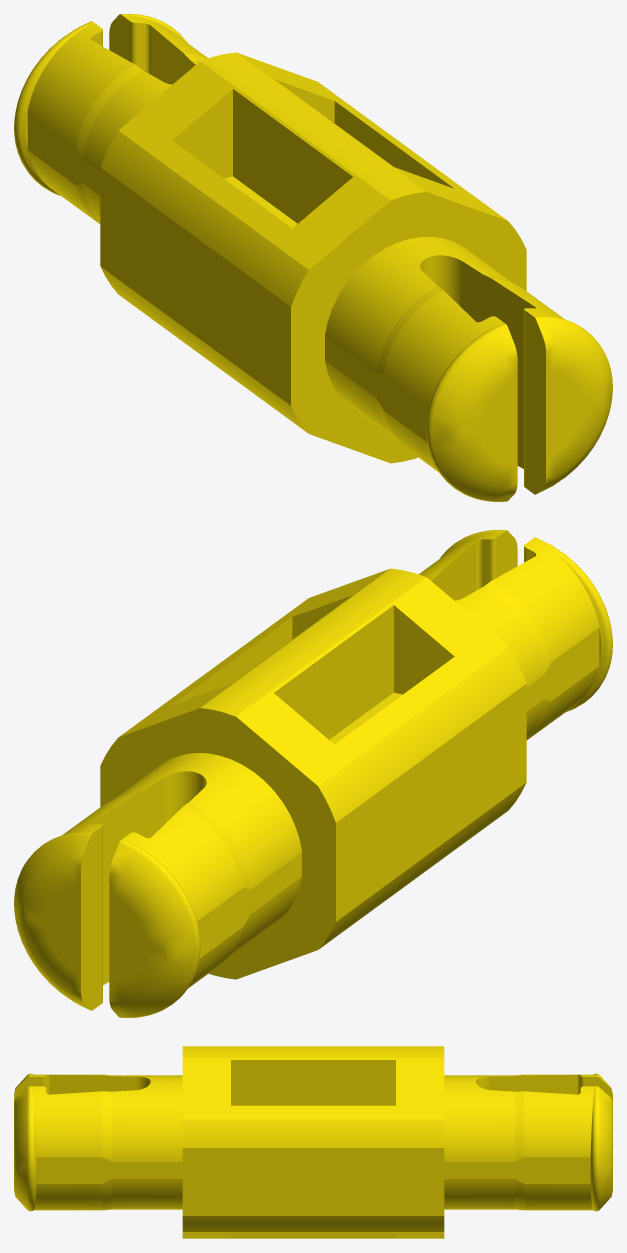
The picture shows the model from 3 angles, top to bottom: view 1: azimuth 30°, elevation 25°; view 2: azimuth 150°, elevation 25°; view 3: azimuth 270°, elevation 25°; orthographic projection. The views are drawn at different scales.
Visible parts, largest first — view 1: main_ffcd00; view 2: main_ffcd00; view 3: main_ffcd00.
Boxes of the visible parts, box(x1,y1,x2,y2) form: main_ffcd00: box(14, 14, 612, 501); main_ffcd00: box(14, 530, 612, 1017); main_ffcd00: box(14, 1046, 612, 1238).
Size of the model in its own units: 5.8 by 6.24 by 18.63.
